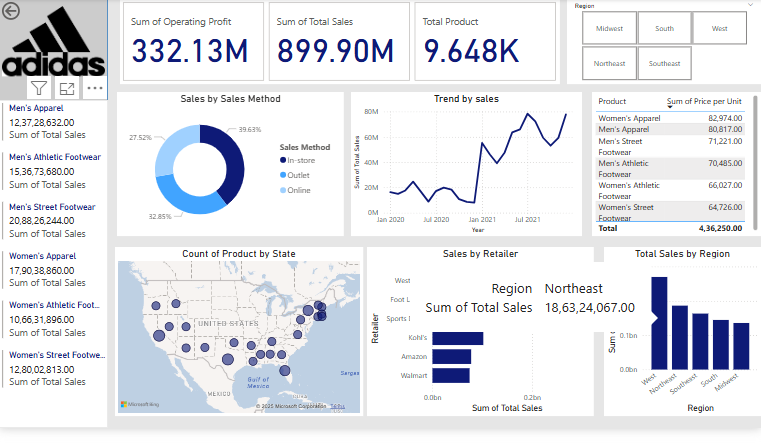

What the dashboard file says about the page in this screenshot:
{"tool":"powerbi","page":{"name":"Sales","canvas":[1280,720],"ordinal":0},"visuals":[{"type":"shape","box":[0,0,183.1,720.6],"z":0},{"type":"image","box":[0,0,183.1,142.8],"z":1000},{"type":"multiRowCard","fields":{"Values":["Data Sales Adidas.Product","Sum(Data Sales Adidas.Total Sales)"]},"box":[0,169.7,183.1,551],"z":2000},{"type":"cardVisual","fields":{"Data":["Sum(Data Sales Adidas.Operating Profit)","Sum(Data Sales Adidas.Total Sales)","CountNonNull(Data Sales Adidas.Product)"]},"box":[203.3,0,739.1,142.8],"z":3000},{"type":"barChart","title":" Sales by Retailer","fields":{"Category":["Data Sales Adidas.Retailer"],"Y":["Sum(Data Sales Adidas.Total Sales)"]},"box":[618.2,416.6,381.3,283.9],"z":4000},{"type":"map","fields":{"Category":["Data Sales Adidas.State"],"Size":["CountNonNull(Data Sales Adidas.Product)"]},"box":[194.9,416.6,416.6,283.9],"z":5000},{"type":"lineChart","title":"Trend by sales","fields":{"Y":["Sum(Data Sales Adidas.Total Sales)"],"Category":["Data Sales Adidas.Invoice Date.Variation.Date Hierarchy.Year","Data Sales Adidas.Invoice Date.Variation.Date Hierarchy.Quarter","Data Sales Adidas.Invoice Date.Variation.Date Hierarchy.Month"]},"box":[591.3,156.2,388,241.9],"z":6000},{"type":"donutChart","title":" Sales by Sales Method","fields":{"Category":["Data Sales Adidas.Sales Method"],"Y":["Sum(Data Sales Adidas.Total Sales)"]},"box":[198.2,156.2,381.3,241.9],"z":7000},{"type":"slicer","fields":{"Values":["Data Sales Adidas.Region"]},"box":[954.1,0,325.9,142.8],"z":8000},{"type":"actionButton","box":[0,0,100,40],"z":9000},{"type":"tableEx","fields":{"Values":["Data Sales Adidas.Product","Sum(Data Sales Adidas.Price per Unit)"]},"box":[996.1,156.2,283.9,241.9],"z":10000},{"type":"columnChart","title":"Total Sales by Region","fields":{"Category":["Data Sales Adidas.Region"],"Y":["Sum(Data Sales Adidas.Total Sales)"]},"box":[1016.3,416.6,263.7,283.9],"z":11000}]}

Visuals, with their boxes on the page's 1280x720 design canvas (x1, y1, x2, y2). These are canvas units, not pixel positions in the 761x445 screenshot, which may show the page scaled, cropped or inside an application window:
shape: [x1=0, y1=0, x2=183, y2=721]
image: [x1=0, y1=0, x2=183, y2=143]
multiRowCard - Data Sales Adidas.Product x Sum(Data Sales Adidas.Total Sales): [x1=0, y1=170, x2=183, y2=721]
cardVisual - Sum(Data Sales Adidas.Operating Profit) x Sum(Data Sales Adidas.Total Sales): [x1=203, y1=0, x2=942, y2=143]
" Sales by Retailer" barChart: [x1=618, y1=417, x2=1000, y2=700]
map - Data Sales Adidas.State x CountNonNull(Data Sales Adidas.Product): [x1=195, y1=417, x2=612, y2=700]
"Trend by sales" lineChart: [x1=591, y1=156, x2=979, y2=398]
" Sales by Sales Method" donutChart: [x1=198, y1=156, x2=580, y2=398]
slicer - Data Sales Adidas.Region: [x1=954, y1=0, x2=1280, y2=143]
actionButton: [x1=0, y1=0, x2=100, y2=40]
tableEx - Data Sales Adidas.Product x Sum(Data Sales Adidas.Price per Unit): [x1=996, y1=156, x2=1280, y2=398]
"Total Sales by Region" columnChart: [x1=1016, y1=417, x2=1280, y2=700]
